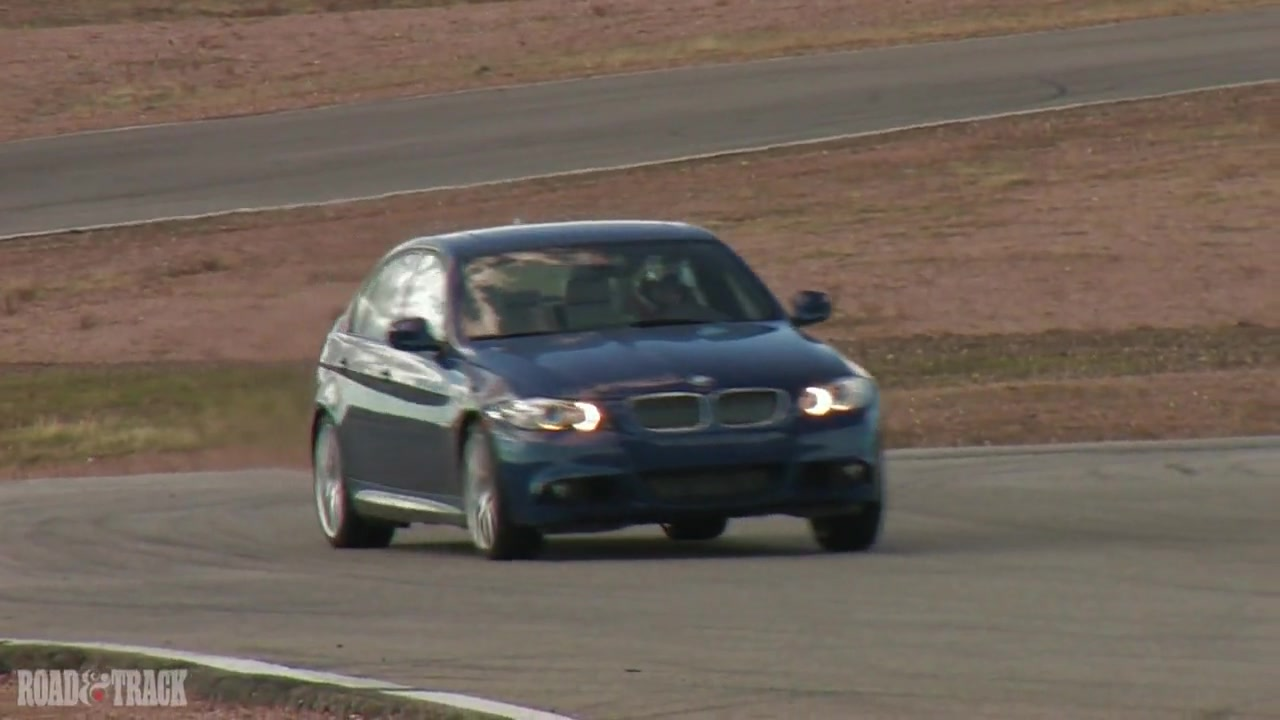car: (308, 218, 884, 557)
